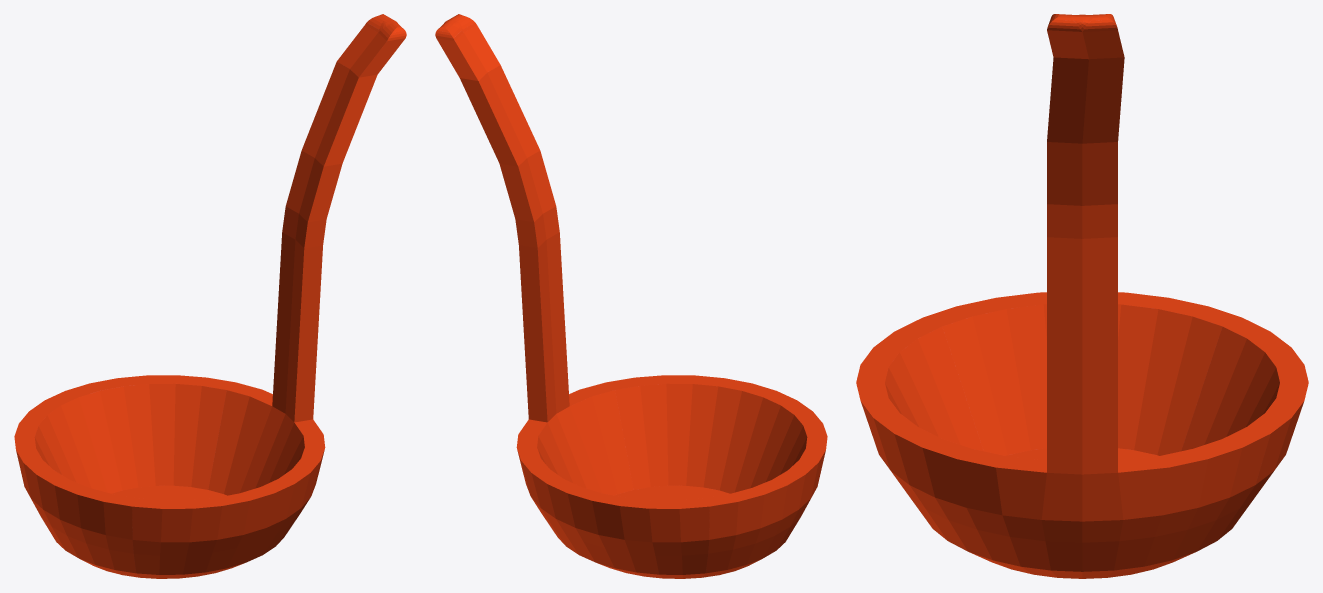
The model's file is CUCHARON.fbx.
3 views of the same model, side by side, from view 1: azimuth 30°, elevation 25°; view 2: azimuth 150°, elevation 25°; view 3: azimuth 270°, elevation 25° (orthographic). The views are drawn at different scales.
Visible parts, largest first — view 1: Cylinder; view 2: Cylinder; view 3: Cylinder.
Boxes of the visible parts, x1,y1,x2,y2 form: Cylinder: (14,14,406,578); Cylinder: (435,14,827,578); Cylinder: (856,14,1308,578).
Size of the model in its own units: 13.65 by 17.25 by 10.53.
Materials: 1 (1 with a texture image).
